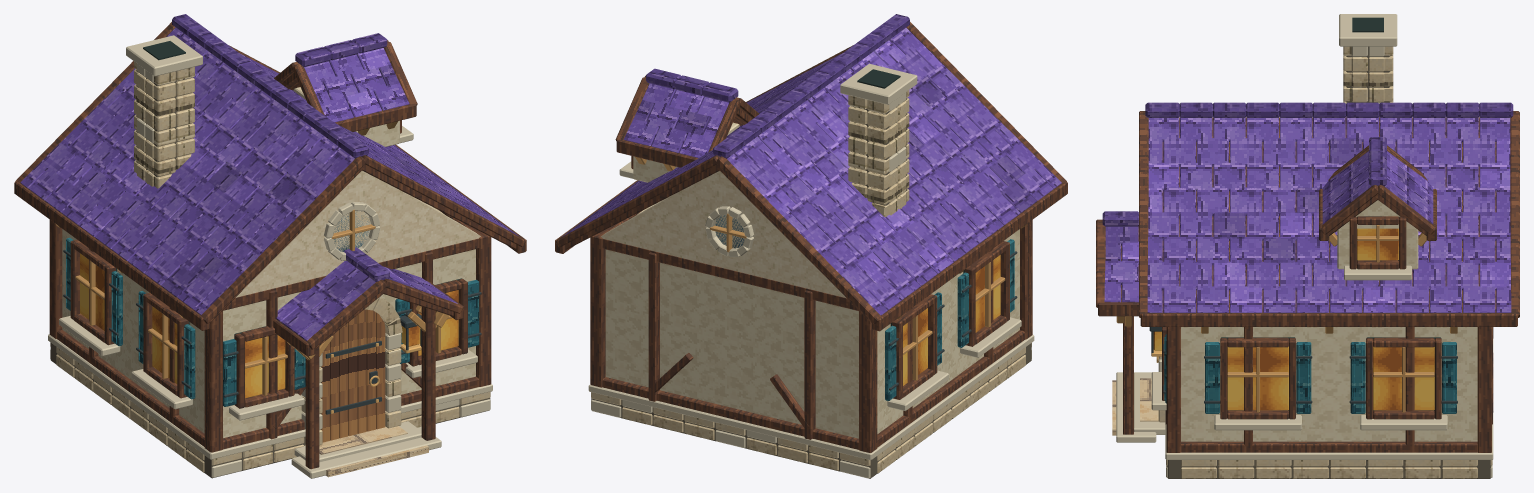
3 renders of one model, left to right at view 1: azimuth 30°, elevation 25°; view 2: azimuth 150°, elevation 25°; view 3: azimuth 270°, elevation 25°, orthographic.
Visible parts, largest first — view 1: Roof__roof_violet, Roof__timber, Timber__timber, Masonry__stone, Roof__roof_violet_dark, Walls__plaster_warm, Roof__roof_violet_hi, Walls__cream, Windows__timber, Masonry__stone_edge, Windows__stone_edge, Windows__roof_teal_dark (+19 smaller); view 2: Roof__roof_violet, Walls__cream, Timber__timber, Roof__timber, Masonry__stone, Walls__plaster_warm, Roof__roof_violet_hi, Roof__roof_violet_dark, Masonry__stone_edge, Windows__timber, Windows__stone_edge, Windows__roof_teal_dark (+5 smaller); view 3: Roof__roof_violet, Roof__timber, Walls__cream, Roof__roof_violet_dark, Timber__timber, Roof__roof_violet_hi, Masonry__stone, Windows__glow, Windows__timber, Masonry__stone_edge, Windows__roof_teal_dark, Windows__stone_edge (+9 smaller).
Boxes of the visible parts, bbox=[...] form: Roof__roof_violet: bbox=[20, 27, 519, 340]; Roof__timber: bbox=[14, 22, 526, 356]; Timber__timber: bbox=[49, 210, 491, 452]; Masonry__stone: bbox=[50, 61, 490, 472]; Roof__roof_violet_dark: bbox=[161, 14, 426, 303]; Walls__plaster_warm: bbox=[235, 170, 480, 297]; Roof__roof_violet_hi: bbox=[58, 48, 478, 321]; Walls__cream: bbox=[62, 200, 475, 438]; Windows__timber: bbox=[70, 120, 467, 408]; Masonry__stone_edge: bbox=[48, 35, 492, 477]; Windows__stone_edge: bbox=[59, 126, 477, 420]; Windows__roof_teal_dark: bbox=[66, 237, 479, 406]; Roof__roof_violet: bbox=[562, 27, 1061, 315]; Walls__cream: bbox=[605, 201, 1019, 438]; Timber__timber: bbox=[590, 210, 1032, 452]; Roof__timber: bbox=[555, 22, 1067, 331]; Masonry__stone: bbox=[591, 90, 1031, 473]; Walls__plaster_warm: bbox=[601, 171, 845, 297]; Roof__roof_violet_hi: bbox=[584, 39, 953, 282]; Roof__roof_violet_dark: bbox=[633, 14, 1036, 212]; Masonry__stone_edge: bbox=[588, 63, 1034, 478]; Windows__timber: bbox=[631, 156, 1009, 399]; Windows__stone_edge: bbox=[619, 161, 1021, 411]; Windows__roof_teal_dark: bbox=[885, 239, 1014, 400]; Roof__roof_violet: bbox=[1104, 117, 1511, 312]; Roof__timber: bbox=[1096, 111, 1519, 326]; Walls__cream: bbox=[1181, 327, 1477, 441]; Roof__roof_violet_dark: bbox=[1102, 102, 1513, 265]; Timber__timber: bbox=[1165, 327, 1493, 452]; Roof__roof_violet_hi: bbox=[1121, 138, 1510, 312]; Masonry__stone: bbox=[1166, 46, 1492, 478]; Windows__glow: bbox=[1227, 228, 1434, 410]; Windows__timber: bbox=[1162, 216, 1441, 419]; Masonry__stone_edge: bbox=[1165, 14, 1493, 477]; Windows__roof_teal_dark: bbox=[1165, 334, 1456, 413]; Windows__stone_edge: bbox=[1151, 265, 1447, 430].
Bounding box in the file's own units: 5.82 × 5.86 × 6.54.
Materials: 19 (13 with a texture image).
